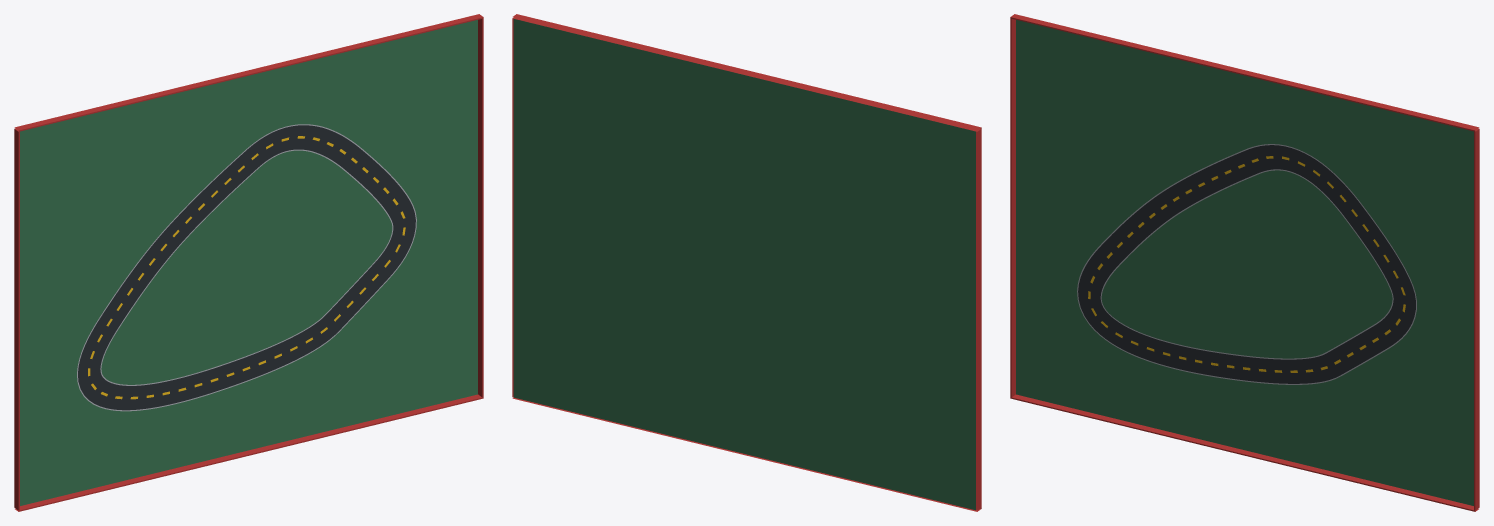
File: track.obj
The picture shows the model from 3 angles, left to right: view 1: azimuth 30°, elevation 25°; view 2: azimuth 150°, elevation 25°; view 3: azimuth 330°, elevation 25°; orthographic projection.
Size of the model in its own units: 18.82 by 14.75 by 0.3.
5 materials, 5 textured.
